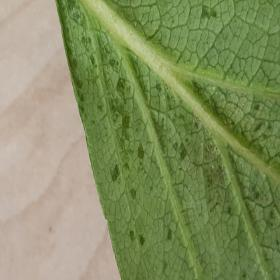Angular Leafspot: (55, 0, 279, 279)
